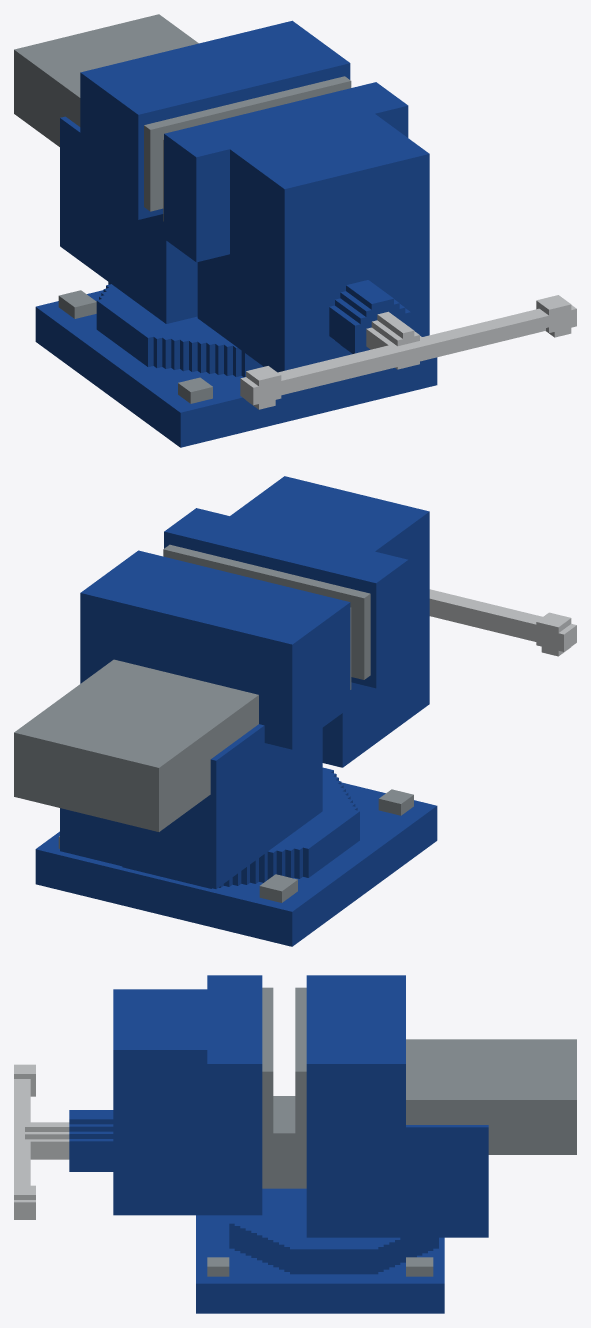
The model's file is bench_vise.glb.
The picture shows the model from 3 angles, top to bottom: view 1: azimuth 30°, elevation 25°; view 2: azimuth 150°, elevation 25°; view 3: azimuth 270°, elevation 25°; orthographic projection. The views are drawn at different scales.
Visible parts, largest first — view 1: bench_vise:compound; view 2: bench_vise:compound; view 3: bench_vise:compound.
Boxes of the visible parts, x1=… form: bench_vise:compound: x1=14, y1=14, x2=576, y2=447; bench_vise:compound: x1=14, y1=476, x2=576, y2=946; bench_vise:compound: x1=14, y1=975, x2=576, y2=1313.
Size of the model in its own units: 0.232 by 0.192 by 0.408.
